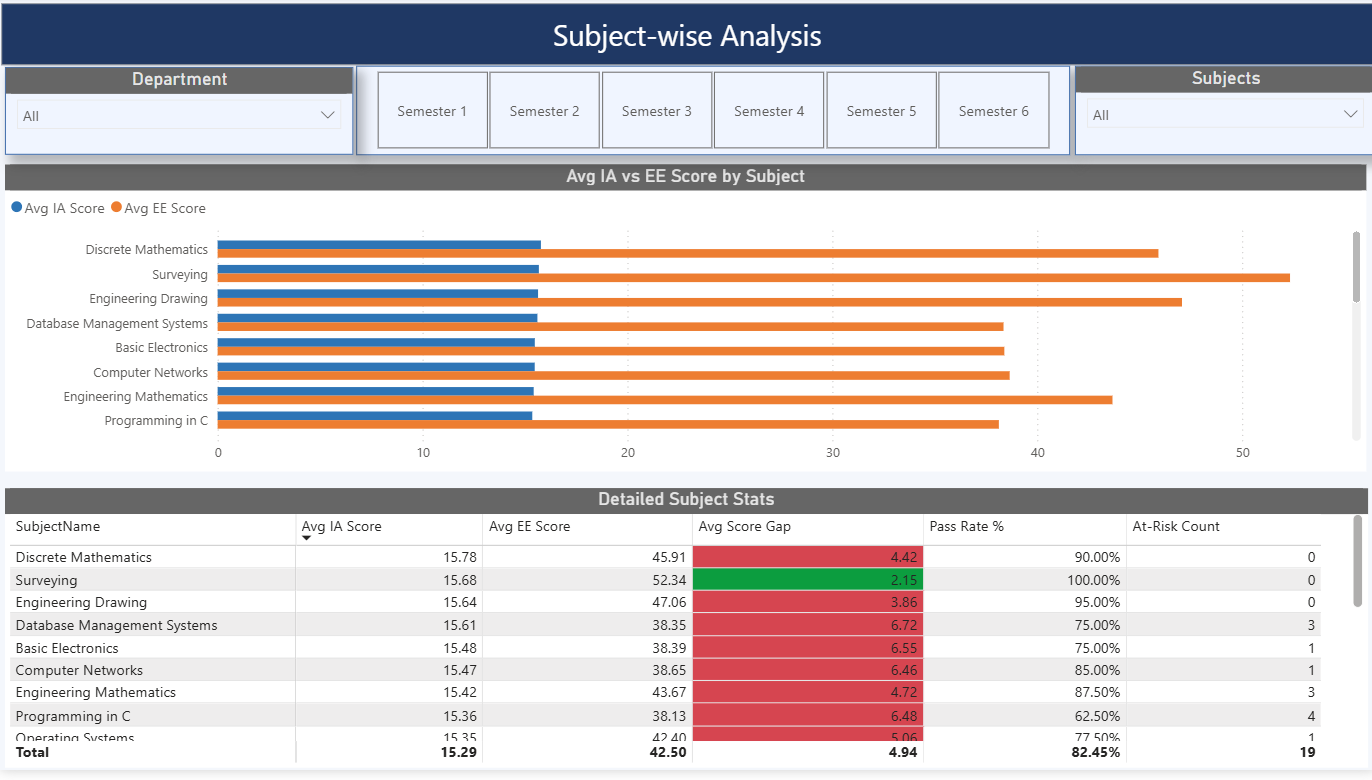

The page's visual inventory and layout, read from the dashboard file:
{"tool":"powerbi","page":{"name":"Subject-wise Analysis","canvas":[1280,720],"ordinal":1},"visuals":[{"type":"textbox","box":[1.1,5.6,1276.7,57.8],"z":0},{"type":"clusteredBarChart","title":"Avg IA vs EE Score by Subject","fields":{"Category":["SubjectMaster.SubjectName"],"Y":["__Measures.Avg IA Score","__Measures.Avg EE Score"]},"box":[4.5,155.8,1266.4,286],"z":1000},{"type":"slicer","fields":{"Values":["SemesterMaster.SemesterName"]},"box":[331.3,63.5,664.2,83.2],"z":2000},{"type":"slicer","title":"Department","fields":{"Values":["DepartmentDim.DepartmentName"]},"box":[4.5,65.1,323.8,81.7],"z":3000},{"type":"slicer","title":"Subjects","fields":{"Values":["SubjectMaster.SubjectName"]},"box":[1000.1,63.5,279.9,83.2],"z":4000},{"type":"pivotTable","title":"Detailed Subject Stats","fields":{"Rows":["SubjectMaster.SubjectName"],"Values":["__Measures.Avg IA Score","__Measures.Avg EE Score","__Measures.Avg Score Gap","__Measures.Pass Rate %","__Measures.At-Risk Count"]},"box":[4.5,456.9,1267.9,260.2],"z":5000}]}

Visuals, with their boxes in screenshot pixels (x1, y1, x2, y2), scaled from the page's 1280x720 canvas onto the 1372x780 screenshot:
textbox: <region>1, 6, 1370, 69</region>
"Avg IA vs EE Score by Subject" clusteredBarChart: <region>5, 169, 1362, 479</region>
slicer - SemesterMaster.SemesterName: <region>355, 69, 1067, 159</region>
"Department" slicer: <region>5, 71, 352, 159</region>
"Subjects" slicer: <region>1072, 69, 1371, 159</region>
"Detailed Subject Stats" pivotTable: <region>5, 495, 1364, 777</region>
